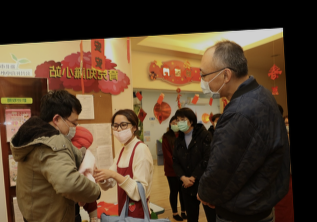with_mask: (199, 64, 224, 100), (112, 119, 133, 143), (58, 117, 79, 140), (176, 117, 189, 133), (170, 120, 179, 134)
